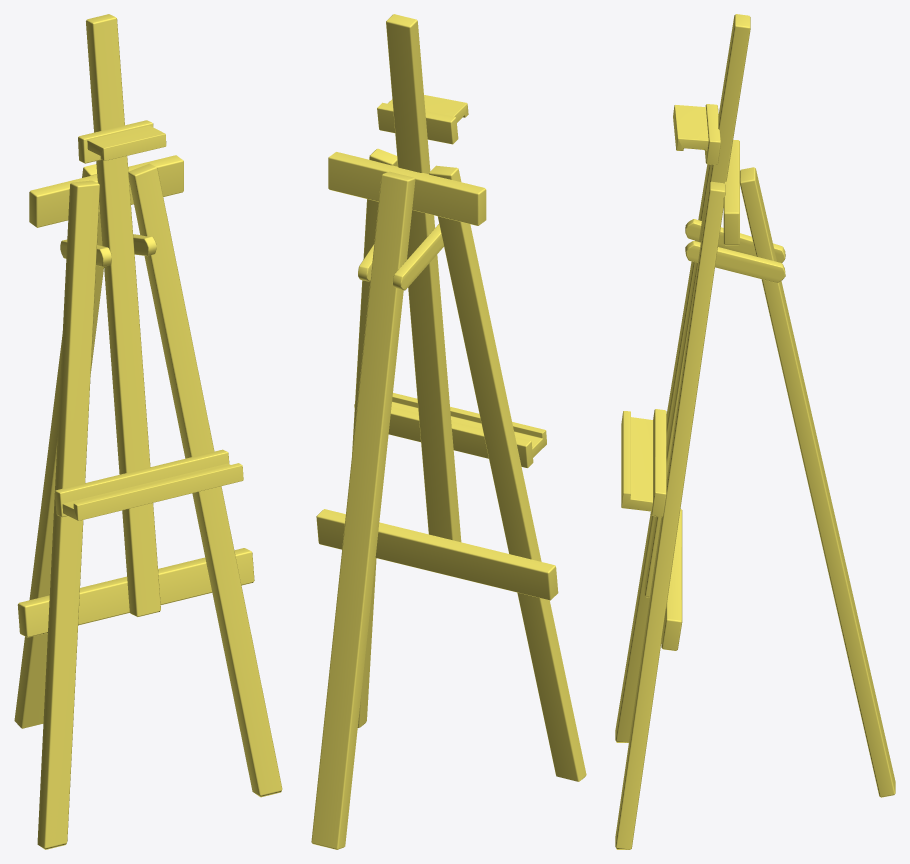
File: Public_14_Easel_2.glb
The picture shows the model from 3 angles, left to right: view 1: azimuth 30°, elevation 25°; view 2: azimuth 150°, elevation 25°; view 3: azimuth 270°, elevation 25°; orthographic projection. The views are drawn at different scales.
Parts seen in each view (by area): view 1: Public_14_Easel_2; view 2: Public_14_Easel_2; view 3: Public_14_Easel_2.
Part boxes in pixels (<box>): Public_14_Easel_2: <box>14,14,282,849</box>; Public_14_Easel_2: <box>311,14,586,849</box>; Public_14_Easel_2: <box>615,14,895,849</box>.
Bounding box in the file's own units: 0.9457 × 2.87 × 0.9451.
1 material, 1 textured.
